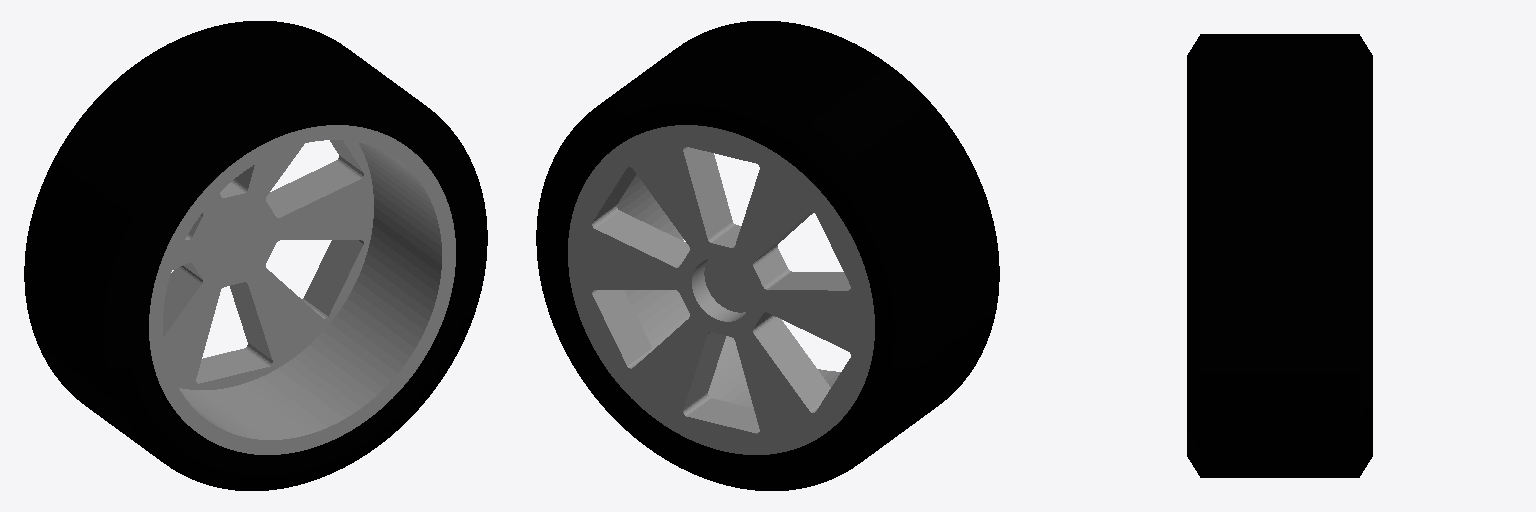
File: mushr_nano_wheel_front_right.obj
The picture shows the model from 3 angles: view 1: azimuth 30°, elevation 25°; view 2: azimuth 150°, elevation 25°; view 3: azimuth 270°, elevation 25°; orthographic projection.
Visible parts, largest first — view 1: Racecar_Chassis_Wheel_Tire, Racecar_Chassis_Wheel_Hub; view 2: Racecar_Chassis_Wheel_Tire, Racecar_Chassis_Wheel_Hub; view 3: Racecar_Chassis_Wheel_Tire.
Boxes of the visible parts, <box> form: Racecar_Chassis_Wheel_Tire: <box>24,21,487,490</box>; Racecar_Chassis_Wheel_Hub: <box>149,125,455,454</box>; Racecar_Chassis_Wheel_Tire: <box>536,21,999,490</box>; Racecar_Chassis_Wheel_Hub: <box>568,125,874,454</box>; Racecar_Chassis_Wheel_Tire: <box>1187,34,1372,477</box>.
Size of the model in its own units: 0.976 by 0.976 by 0.41.